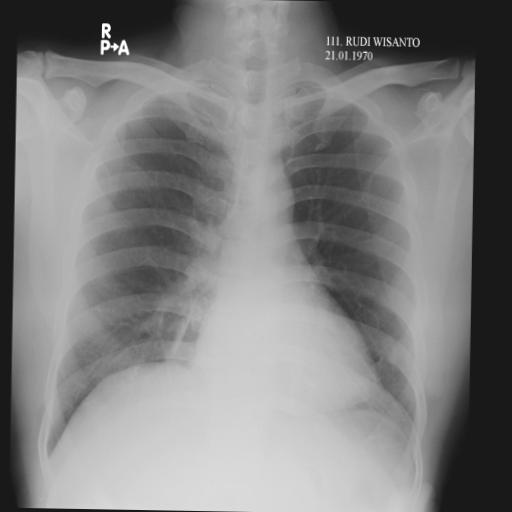kardiomegali: (39, 47, 432, 480)
